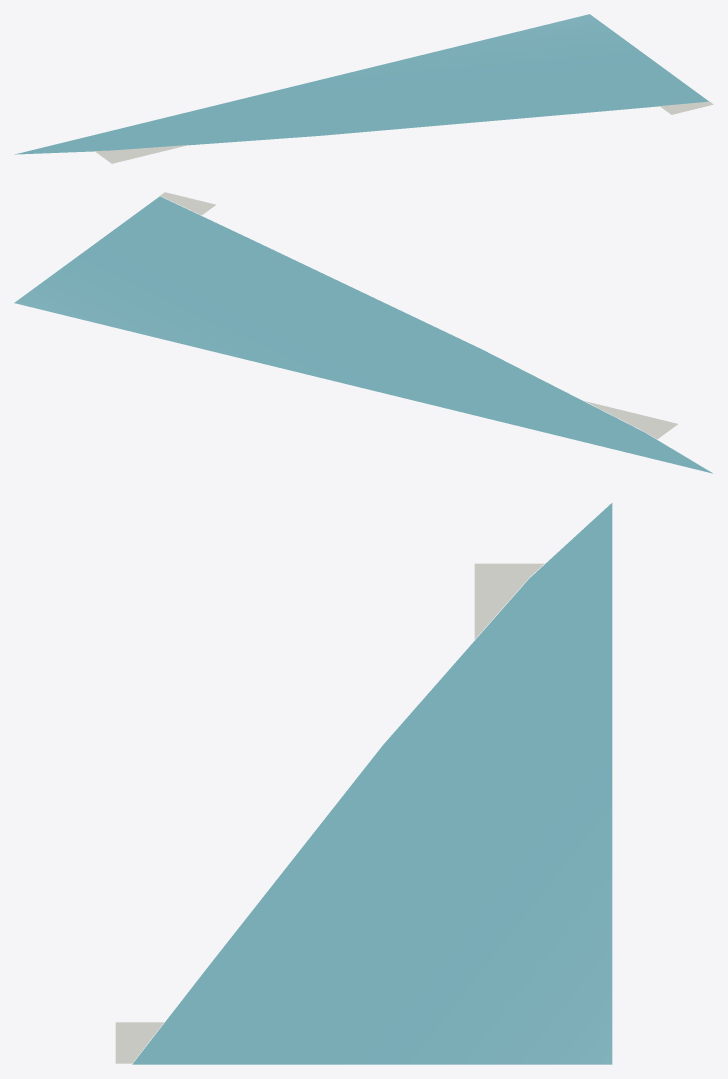
The picture shows the model from 3 angles, top to bottom: view 1: azimuth 30°, elevation 25°; view 2: azimuth 150°, elevation 25°; view 3: azimuth 270°, elevation 25°; orthographic projection. The views are drawn at different scales.
Parts seen in each view (by area): view 1: city; view 2: city; view 3: city.
Part boxes in pixels (x1=…): city: x1=14, y1=14, x2=713, y2=163; city: x1=14, y1=192, x2=712, y2=473; city: x1=115, y1=503, x2=612, y2=1064.
Bounding box in the file's own units: 306 × 0.18 × 114.
